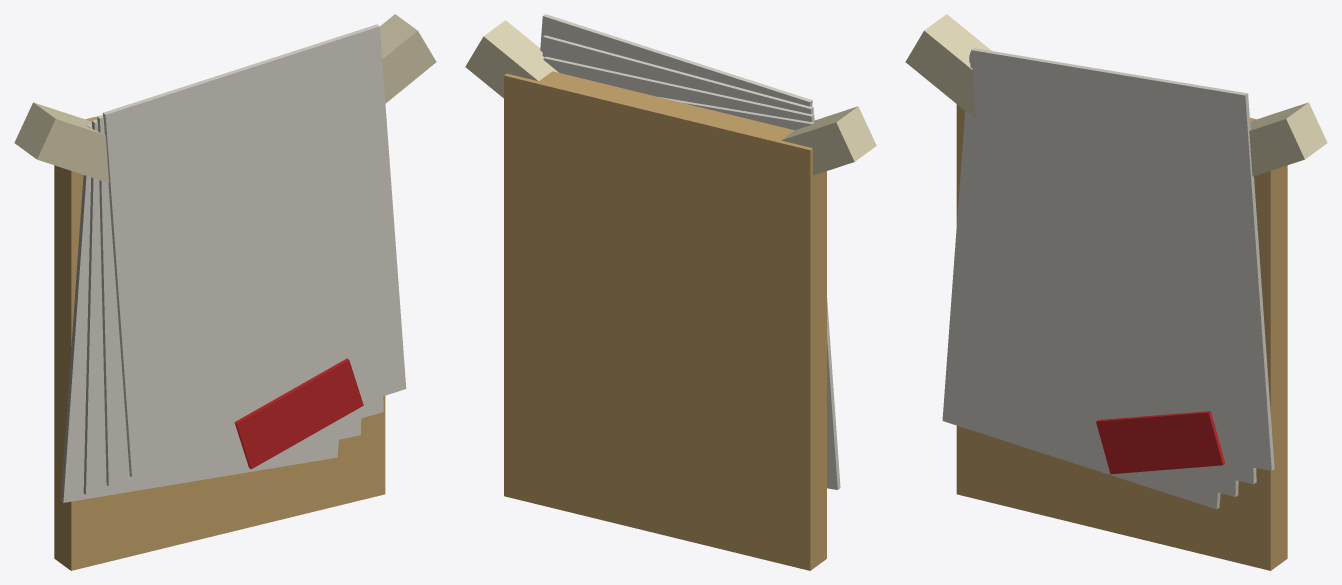
File: bridge_invoices.glb
3 renders of one model, left to right at view 1: azimuth 30°, elevation 25°; view 2: azimuth 150°, elevation 25°; view 3: azimuth 330°, elevation 25°, orthographic. The views are drawn at different scales.
Parts seen in each view (by area): view 1: papers_paper, folder_folder_card, tape_tape, stamp_stamp_red; view 2: folder_folder_card, papers_paper, tape_tape; view 3: papers_paper, folder_folder_card, tape_tape, stamp_stamp_red.
Part boxes in pixels (bbox=[...]): papers_paper: bbox=[60, 24, 406, 502]; folder_folder_card: bbox=[54, 115, 385, 570]; tape_tape: bbox=[14, 14, 436, 182]; stamp_stamp_red: bbox=[234, 358, 363, 469]; folder_folder_card: bbox=[504, 71, 826, 570]; papers_paper: bbox=[540, 14, 840, 489]; tape_tape: bbox=[465, 20, 876, 175]; papers_paper: bbox=[942, 48, 1274, 509]; folder_folder_card: bbox=[956, 104, 1287, 570]; tape_tape: bbox=[905, 14, 1327, 176]; stamp_stamp_red: bbox=[1096, 411, 1225, 474].
Bounding box in the file's own units: 0.4069 × 0.466 × 0.053.
